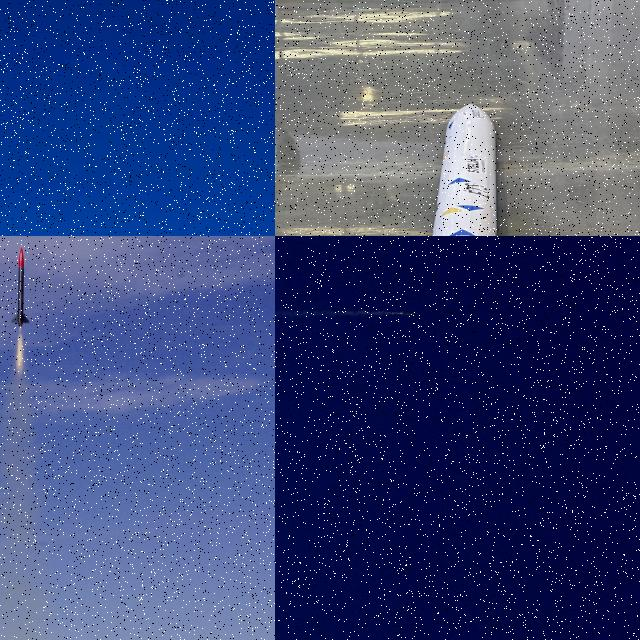Rocket: (432, 103, 497, 236), (11, 246, 30, 328), (399, 310, 417, 316)
